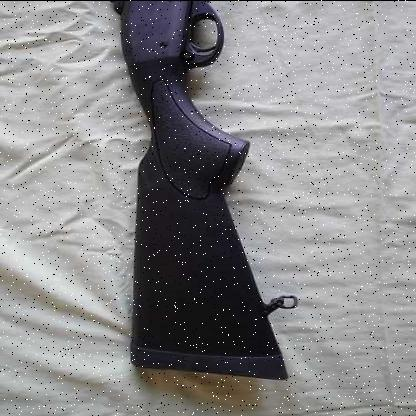rifle: (92, 1, 274, 387)
